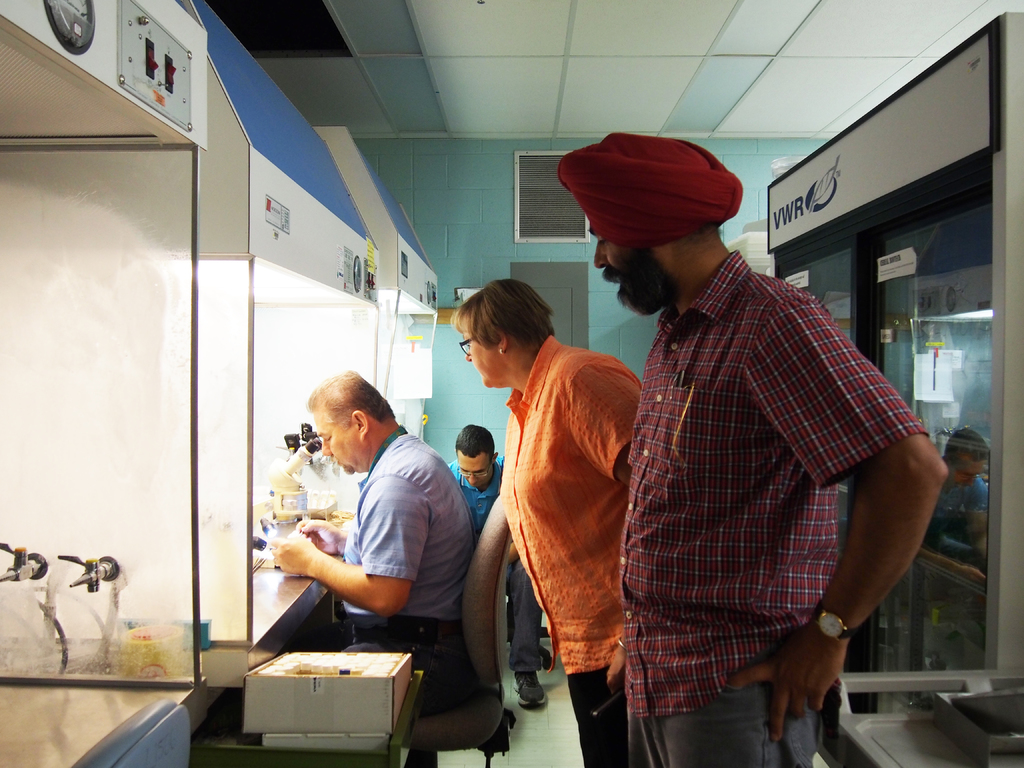Footwear: (508, 668, 549, 709)
